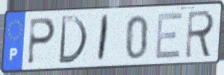0: (125, 13, 151, 61)
D: (57, 14, 89, 66)
E: (154, 10, 185, 61)
I: (96, 13, 111, 64)
P: (25, 17, 57, 67)
R: (183, 9, 217, 60)
